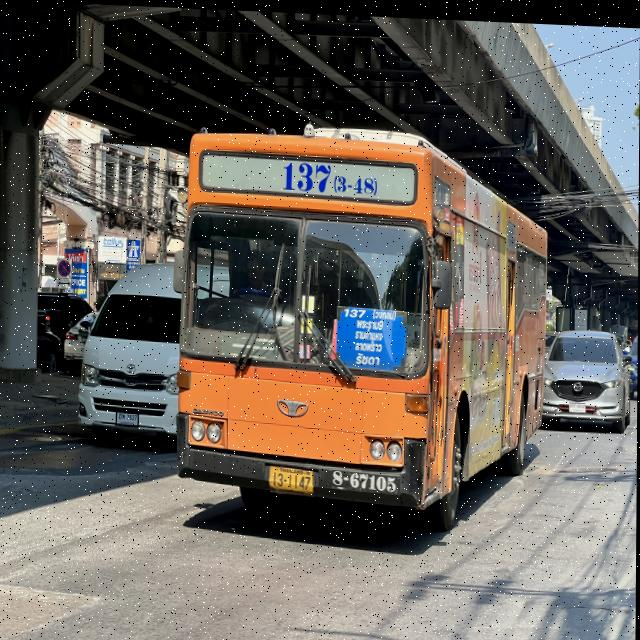BMTA-bus: (175, 122, 552, 531)
Bus-Line-Number: (279, 151, 385, 199)
Destination-Sign-Normal: (338, 304, 406, 370)
